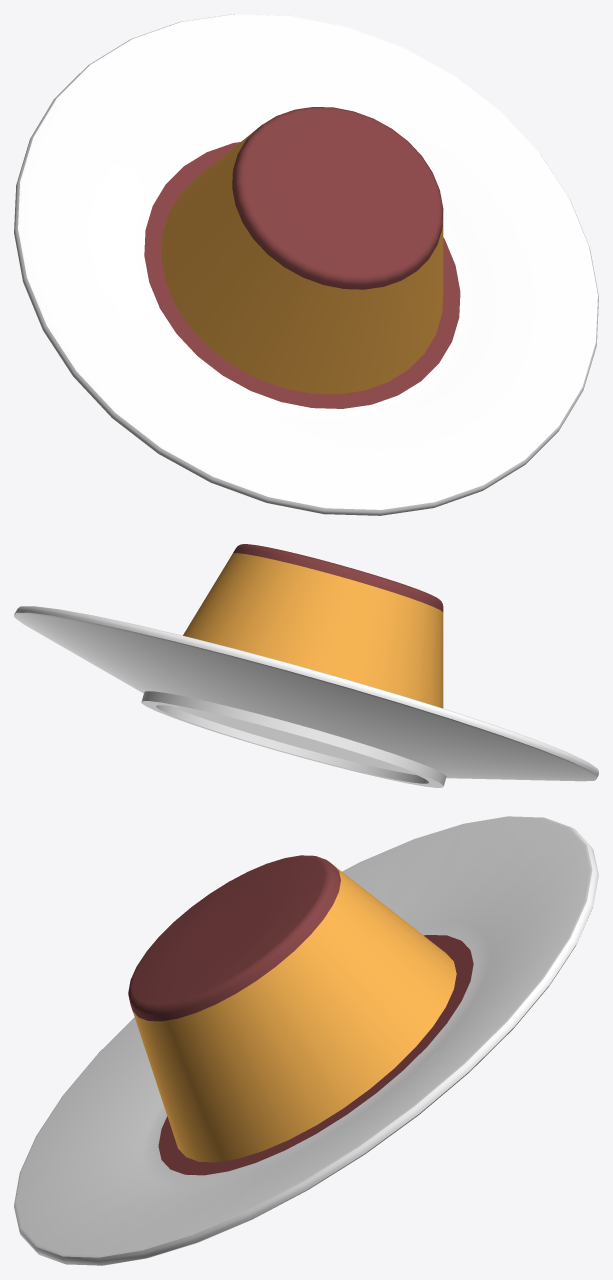
Rendered from custard.glb.
3 renders of one model, top to bottom at view 1: azimuth 30°, elevation 25°; view 2: azimuth 150°, elevation 25°; view 3: azimuth 270°, elevation 25°, orthographic. The views are drawn at different scales.
Parts seen in each view (by area): view 1: Circle.2261; view 2: Circle.2261; view 3: Circle.2261.
Part boxes in pixels (x1,y1,x2,y2): Circle.2261: [14, 14, 598, 515]; Circle.2261: [14, 544, 598, 787]; Circle.2261: [14, 816, 598, 1265].
Bounding box in the file's own units: 2.35 × 1.28 × 1.99.
Materials: 1 (1 with a texture image).
